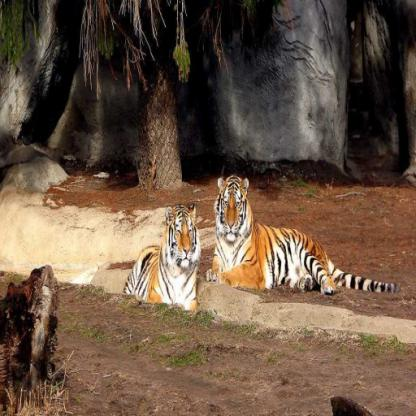Tiger: (206, 168, 400, 296), (123, 198, 203, 316)
